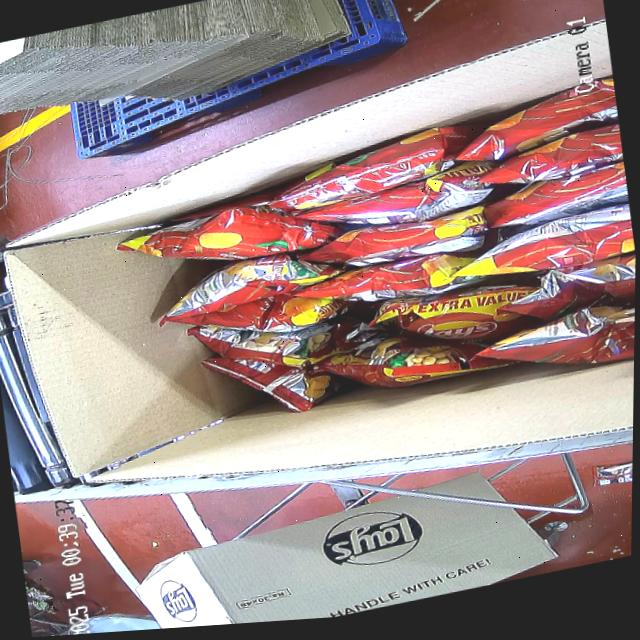MASALA: (105, 73, 638, 462)
